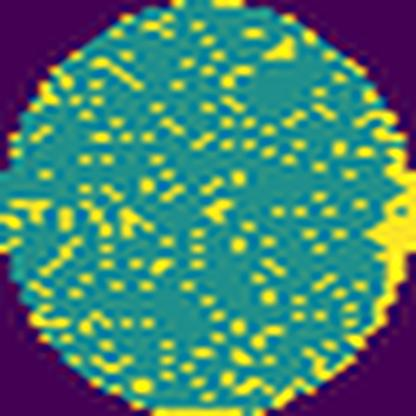Edge-Loc: (367, 115, 416, 340)
